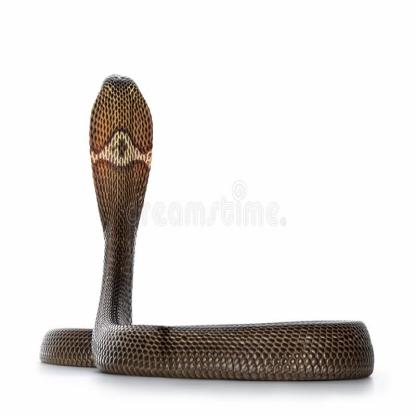Snake: (40, 69, 378, 381)
